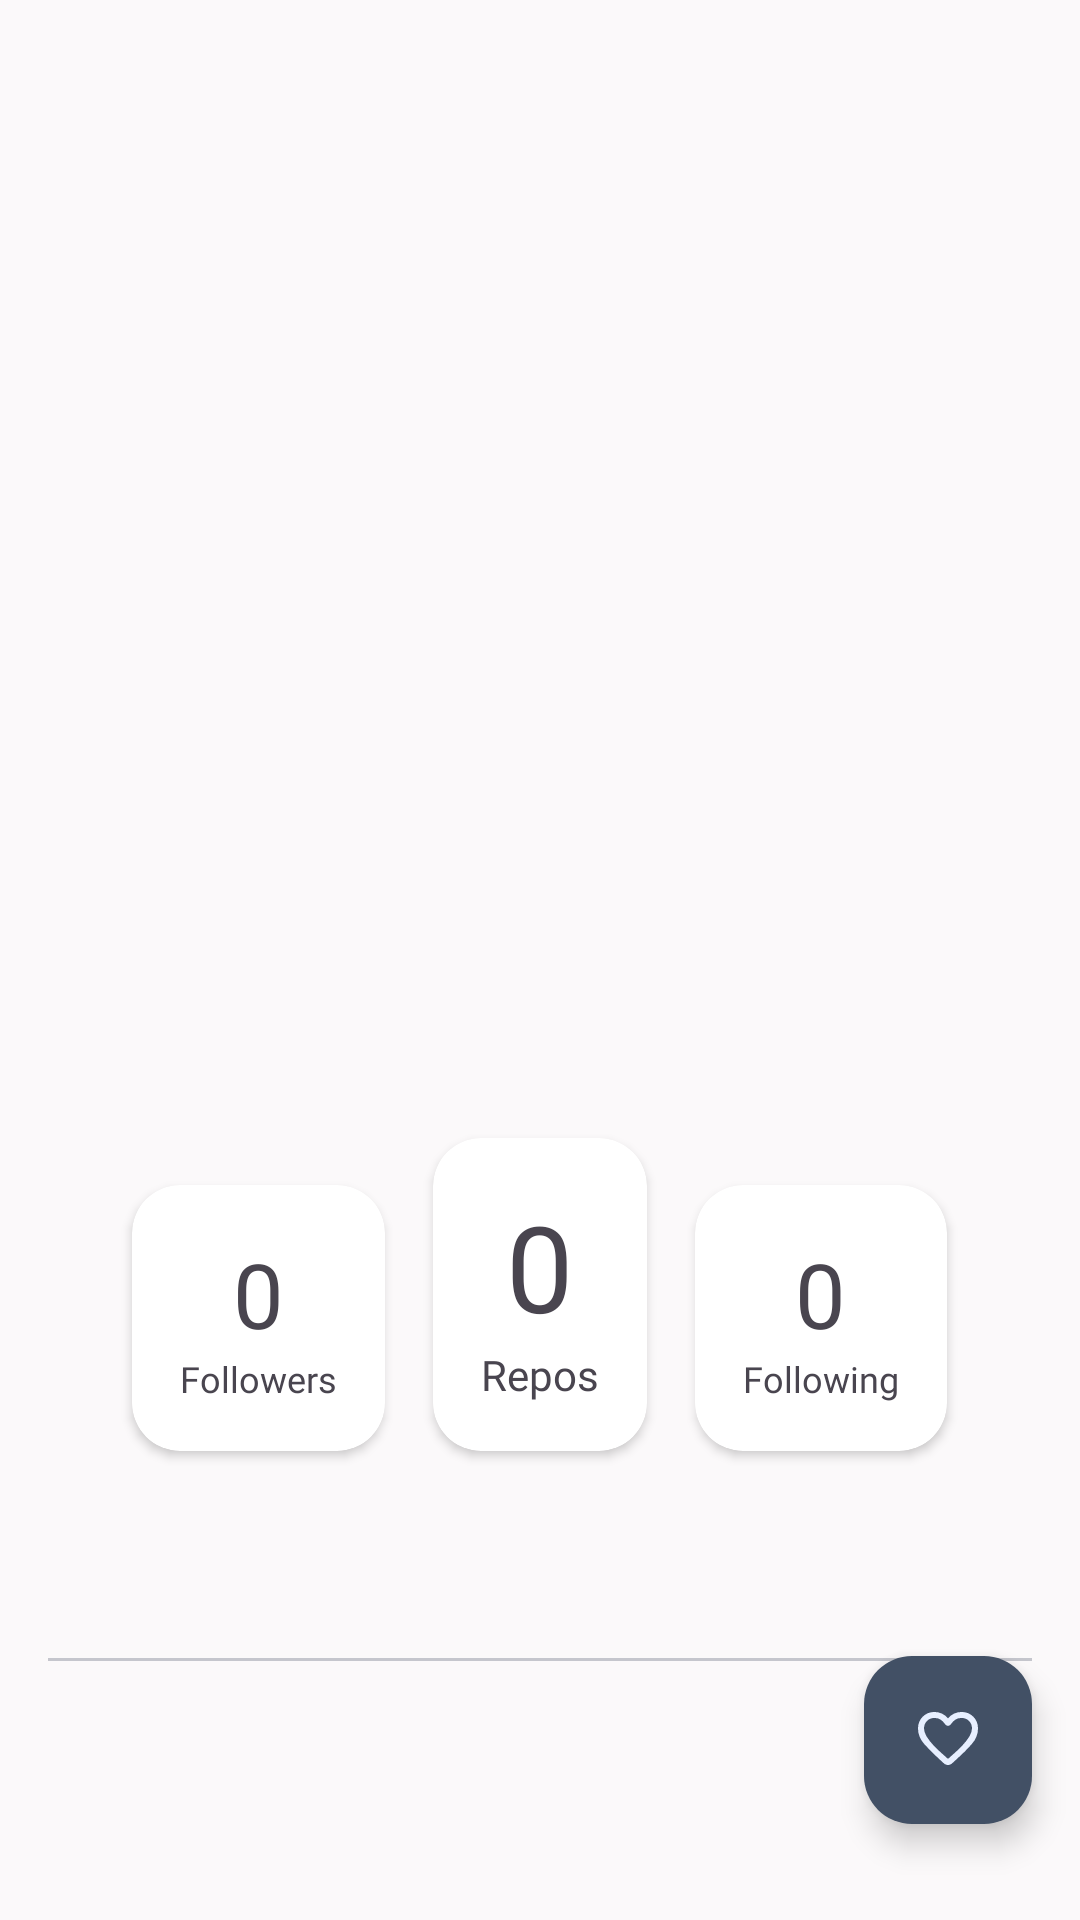

Icon bounding boxes for this 1080 x 1920 phone screenshot, format (x1, y1, x2, y2):
Favorite button: (864, 1656, 1032, 1824)
